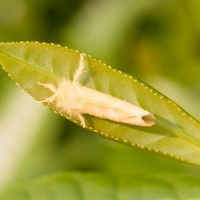insect: (0, 41, 199, 164), (38, 54, 154, 127)
